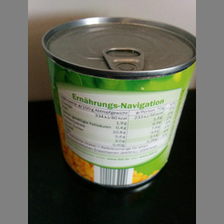corn: (40, 15, 196, 187)
